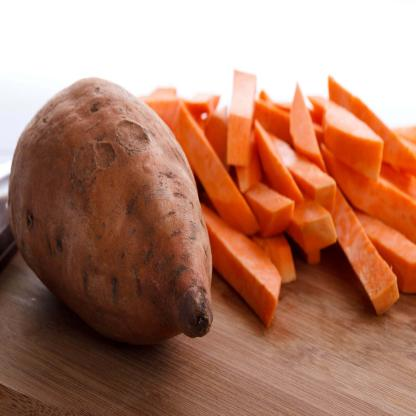---: (15, 70, 223, 364)
